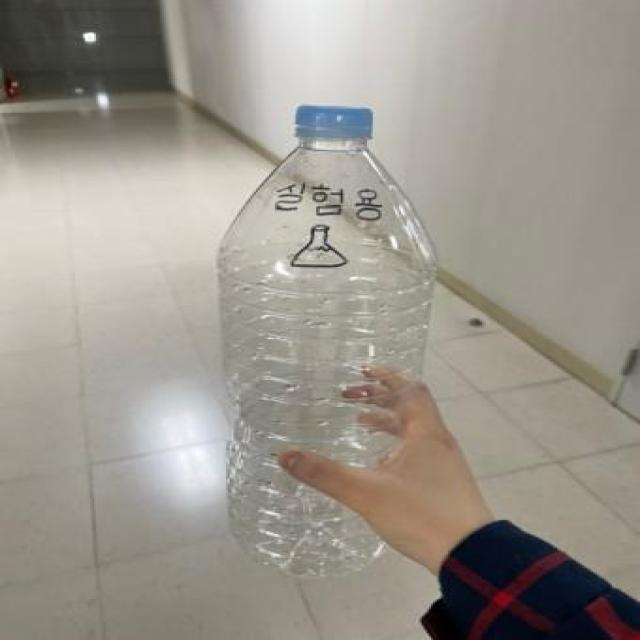bottle: (219, 106, 426, 578)
